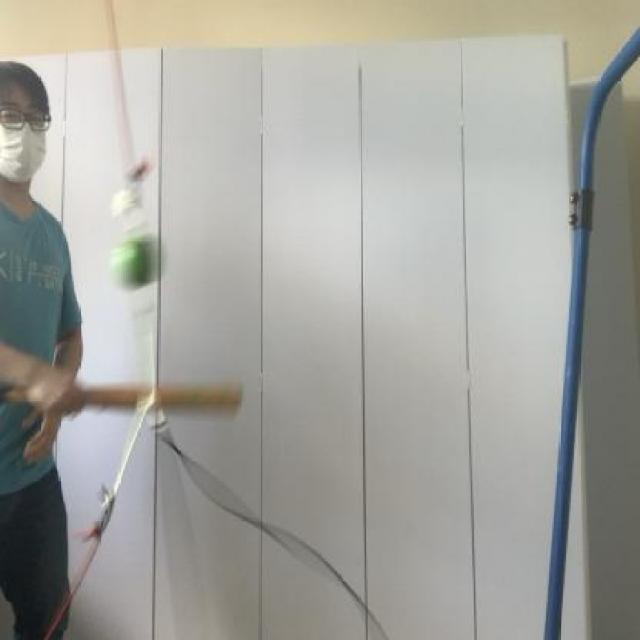baseball: (107, 220, 167, 302)
